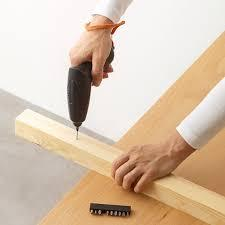screwdriver: (66, 65, 91, 130)
